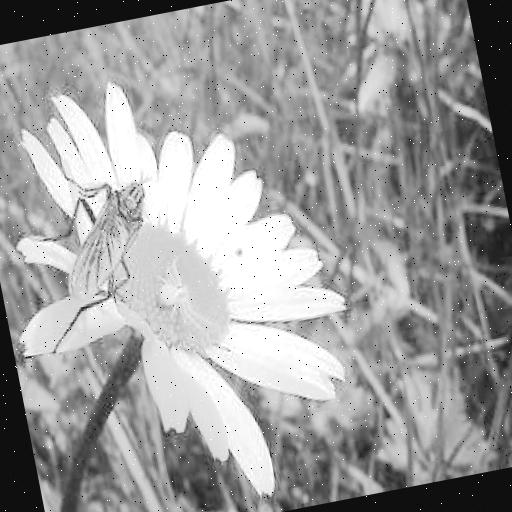daisy: (12, 75, 337, 480)
